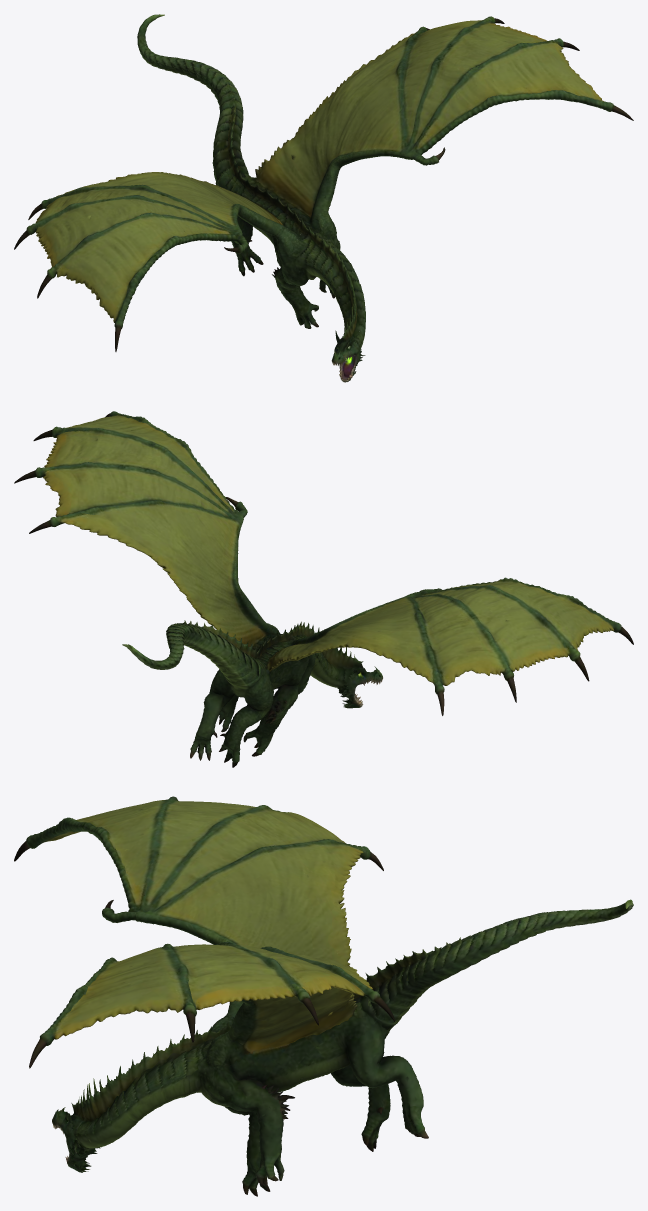
The model's file is MZ4250 - Dragon Green Greatwyrm.glb.
The picture shows the model from 3 angles, top to bottom: view 1: azimuth 30°, elevation 25°; view 2: azimuth 150°, elevation 25°; view 3: azimuth 270°, elevation 25°; orthographic projection. The views are drawn at different scales.
Parts seen in each view (by area): view 1: Green Greatwyrm.001; view 2: Green Greatwyrm.001; view 3: Green Greatwyrm.001.
Part boxes in pixels (x1,y1,x2,y2): Green Greatwyrm.001: [14, 14, 633, 382]; Green Greatwyrm.001: [14, 411, 633, 767]; Green Greatwyrm.001: [14, 796, 633, 1196].
Size of the model in its own units: 361 by 164 by 266.
Materials: 1 (1 with a texture image).
